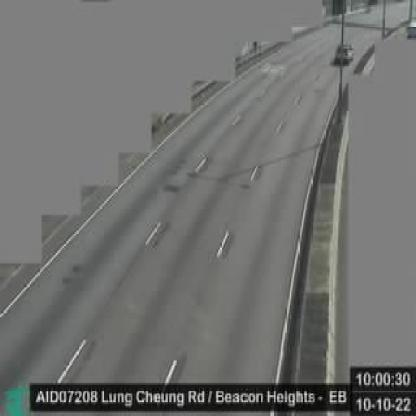Car: (332, 42, 355, 65), (405, 19, 416, 39)
